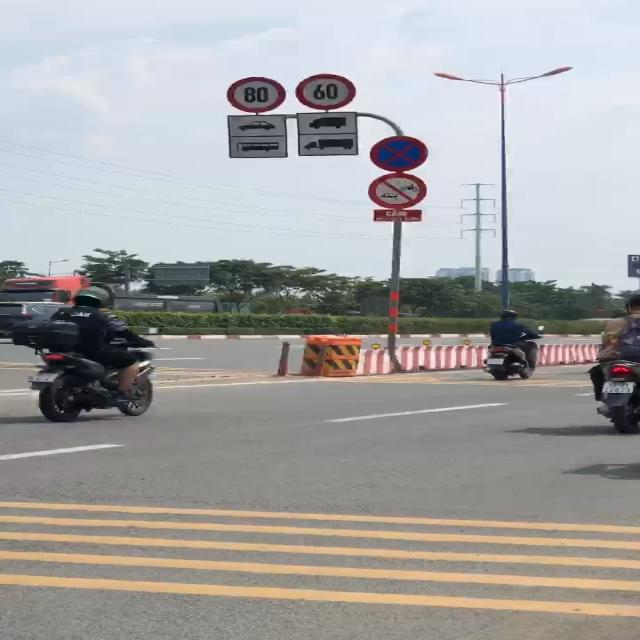Bien bao cam dung xe va do xe: (368, 136, 429, 173)
Bien bao toc do toi da cho phep: (289, 70, 360, 110), (223, 73, 288, 114)
